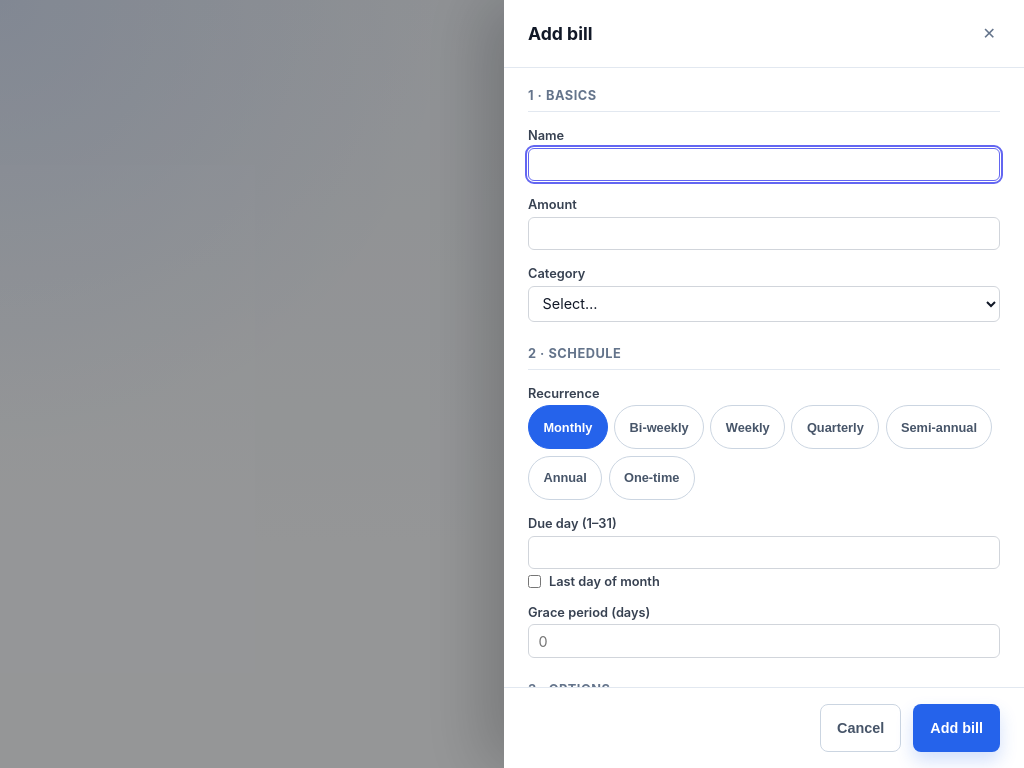
Test: BillFormModal — add mode › shows validation errors when submitting an empty form
Click the button "Add bill" at point(957, 728), box [913,704,1000,752]
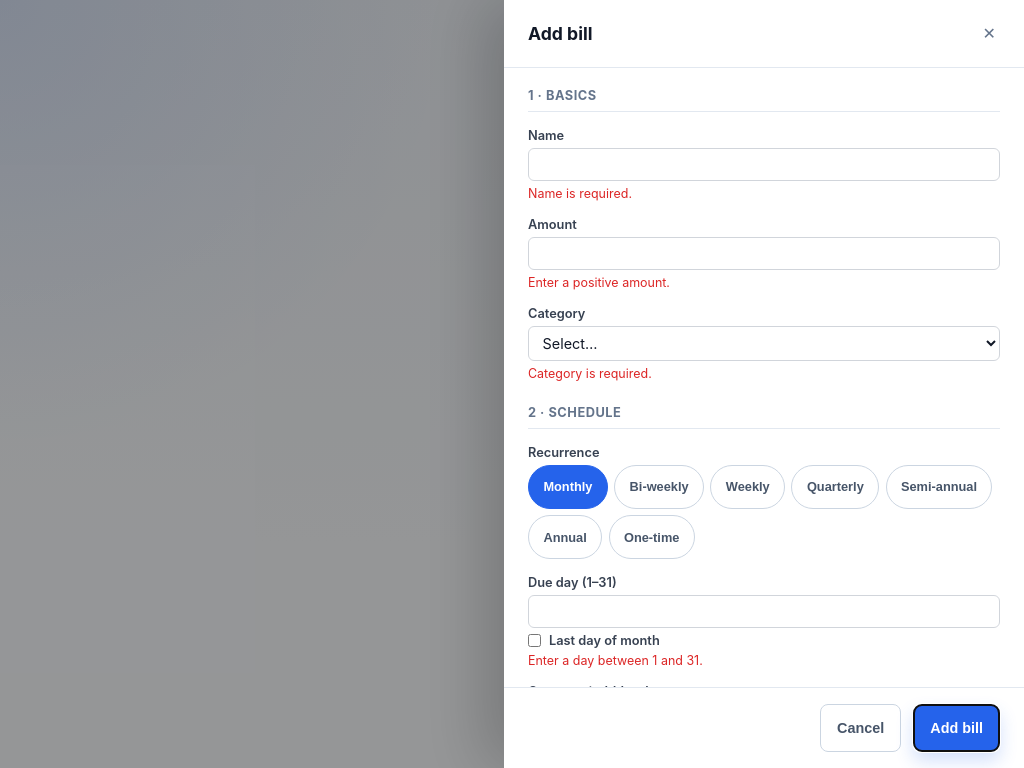
Expected: the text "Name is required." is shown, [528,186,632,201]
Expected: the text "Enter a positive amount." is shown, [528,275,670,290]
Expected: the text "Category is required." is shown, [528,366,652,381]
